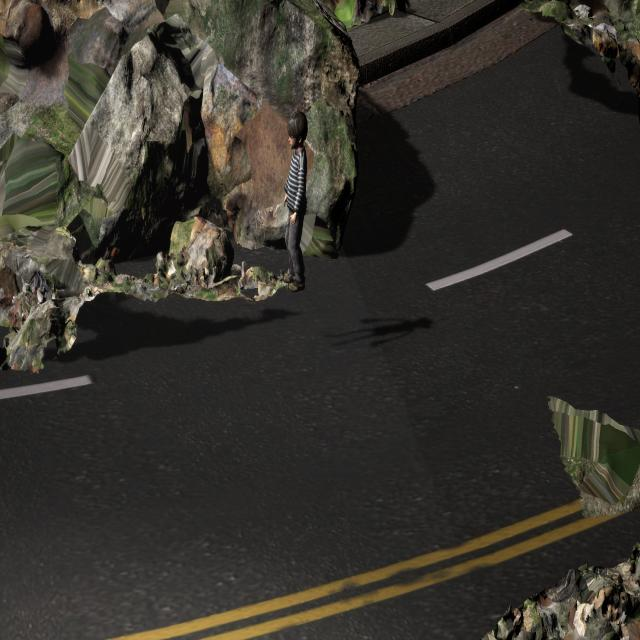Human: (273, 104, 314, 310)
